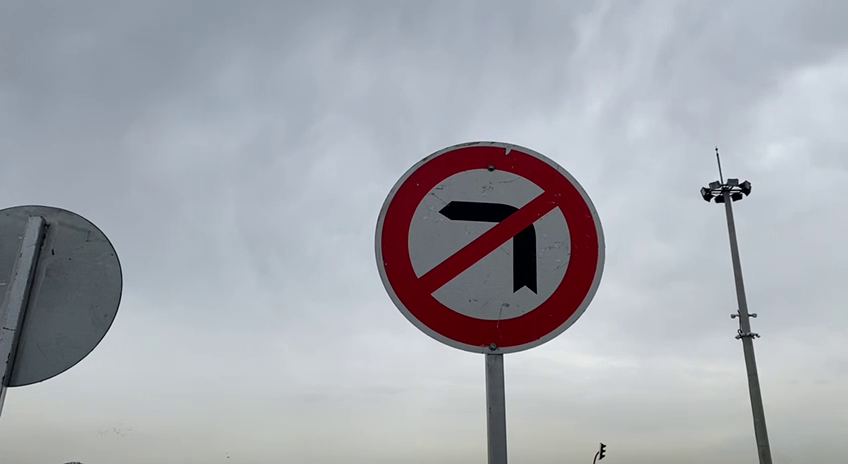noTurnLeft: (368, 134, 609, 357)
